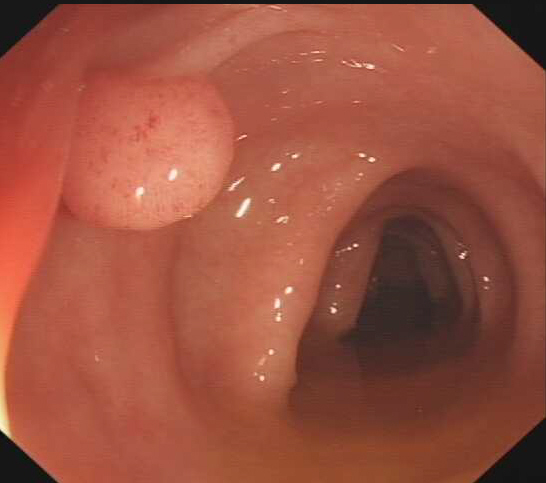adenoma: (59, 70, 237, 235)
